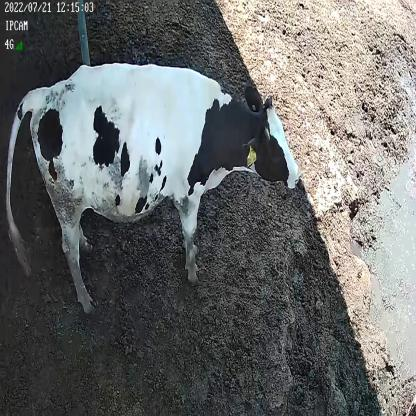cow: (4, 59, 302, 317)
